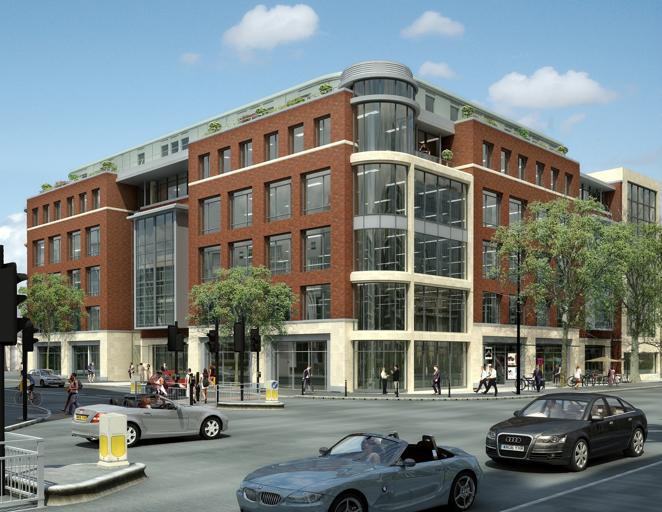non-vehicle: (566, 369, 599, 387), (15, 388, 44, 407), (515, 372, 544, 391)
